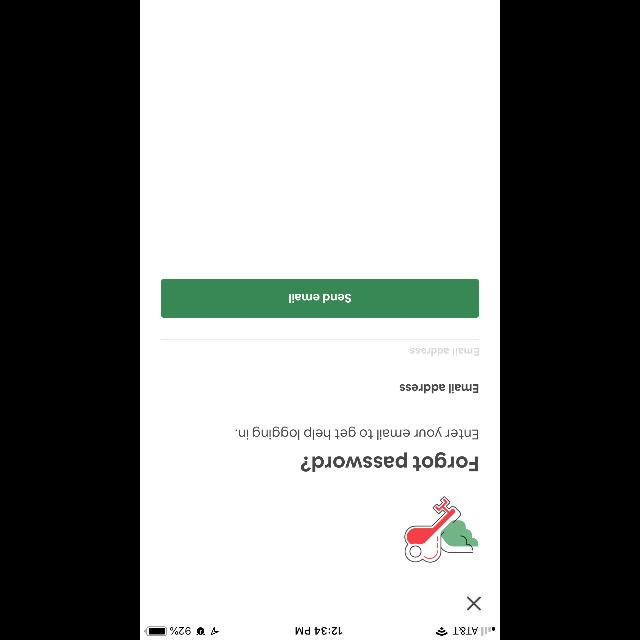icon: (467, 596, 481, 610)
image: (404, 496, 478, 562)
input: (161, 338, 479, 356)
text: (300, 452, 478, 472), (236, 426, 478, 439), (399, 384, 478, 394), (409, 348, 478, 356)
textbutton: (161, 278, 479, 318)
uppertaskbar: (140, 626, 500, 640)
